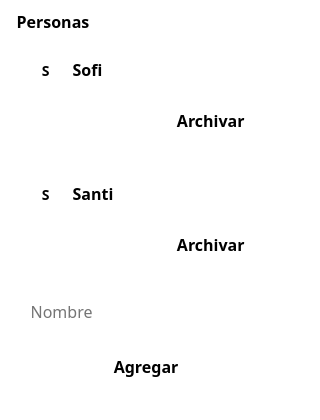
Test case: MemberSettings › shows the field error from the add form
The width and height of the screenshot is (320, 420).
Click the button "Agregar" at (146, 367), box x1=16 y1=343 x2=276 y2=391
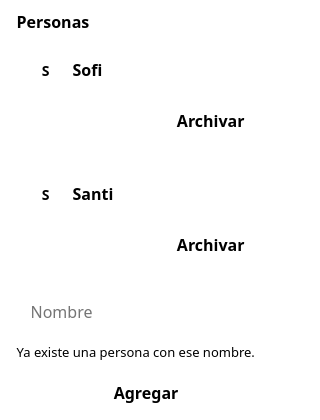
Result: the text "Ya existe una persona con ese nombre." is shown at x1=16 y1=343 x2=276 y2=361
